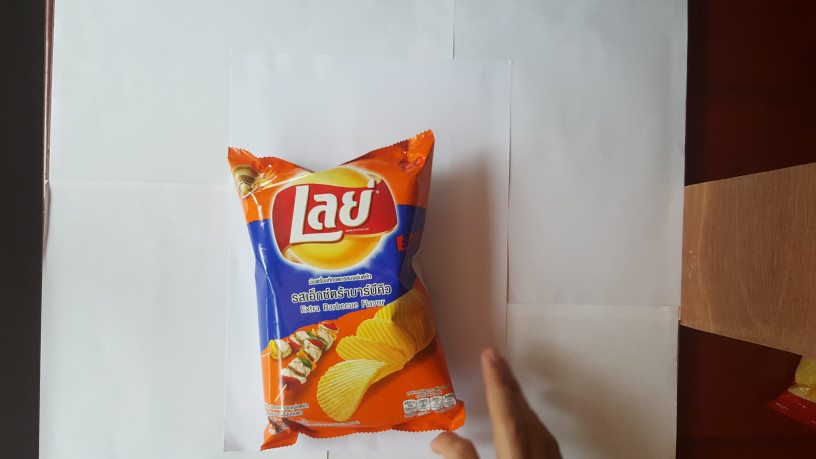lays-bbq: (218, 125, 472, 450)
